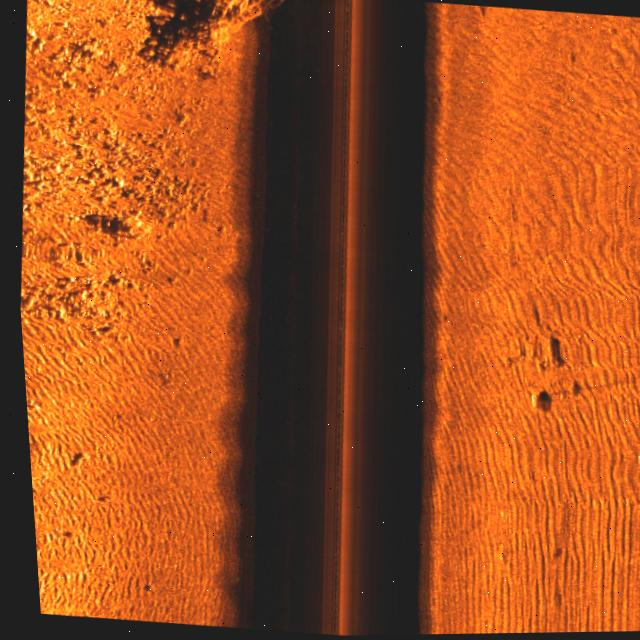artificial reef: (232, 0, 306, 34)
